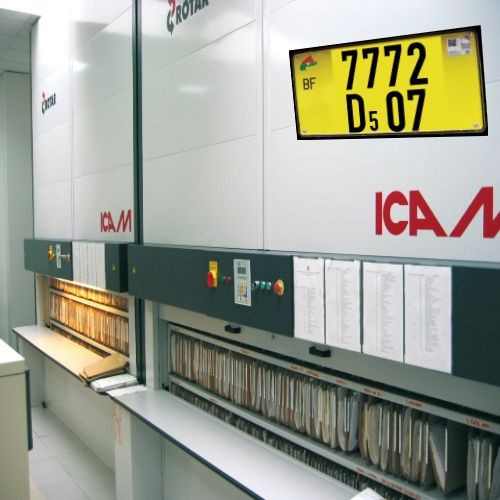plate: (282, 19, 495, 159)
